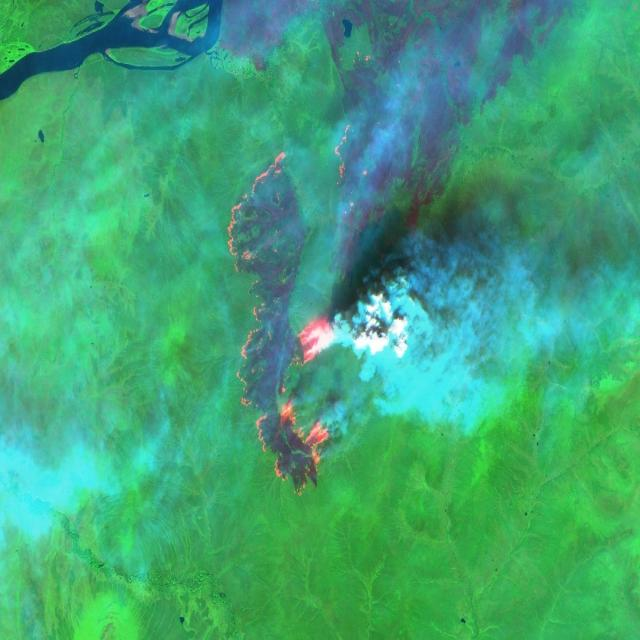fire: (223, 118, 384, 506)
